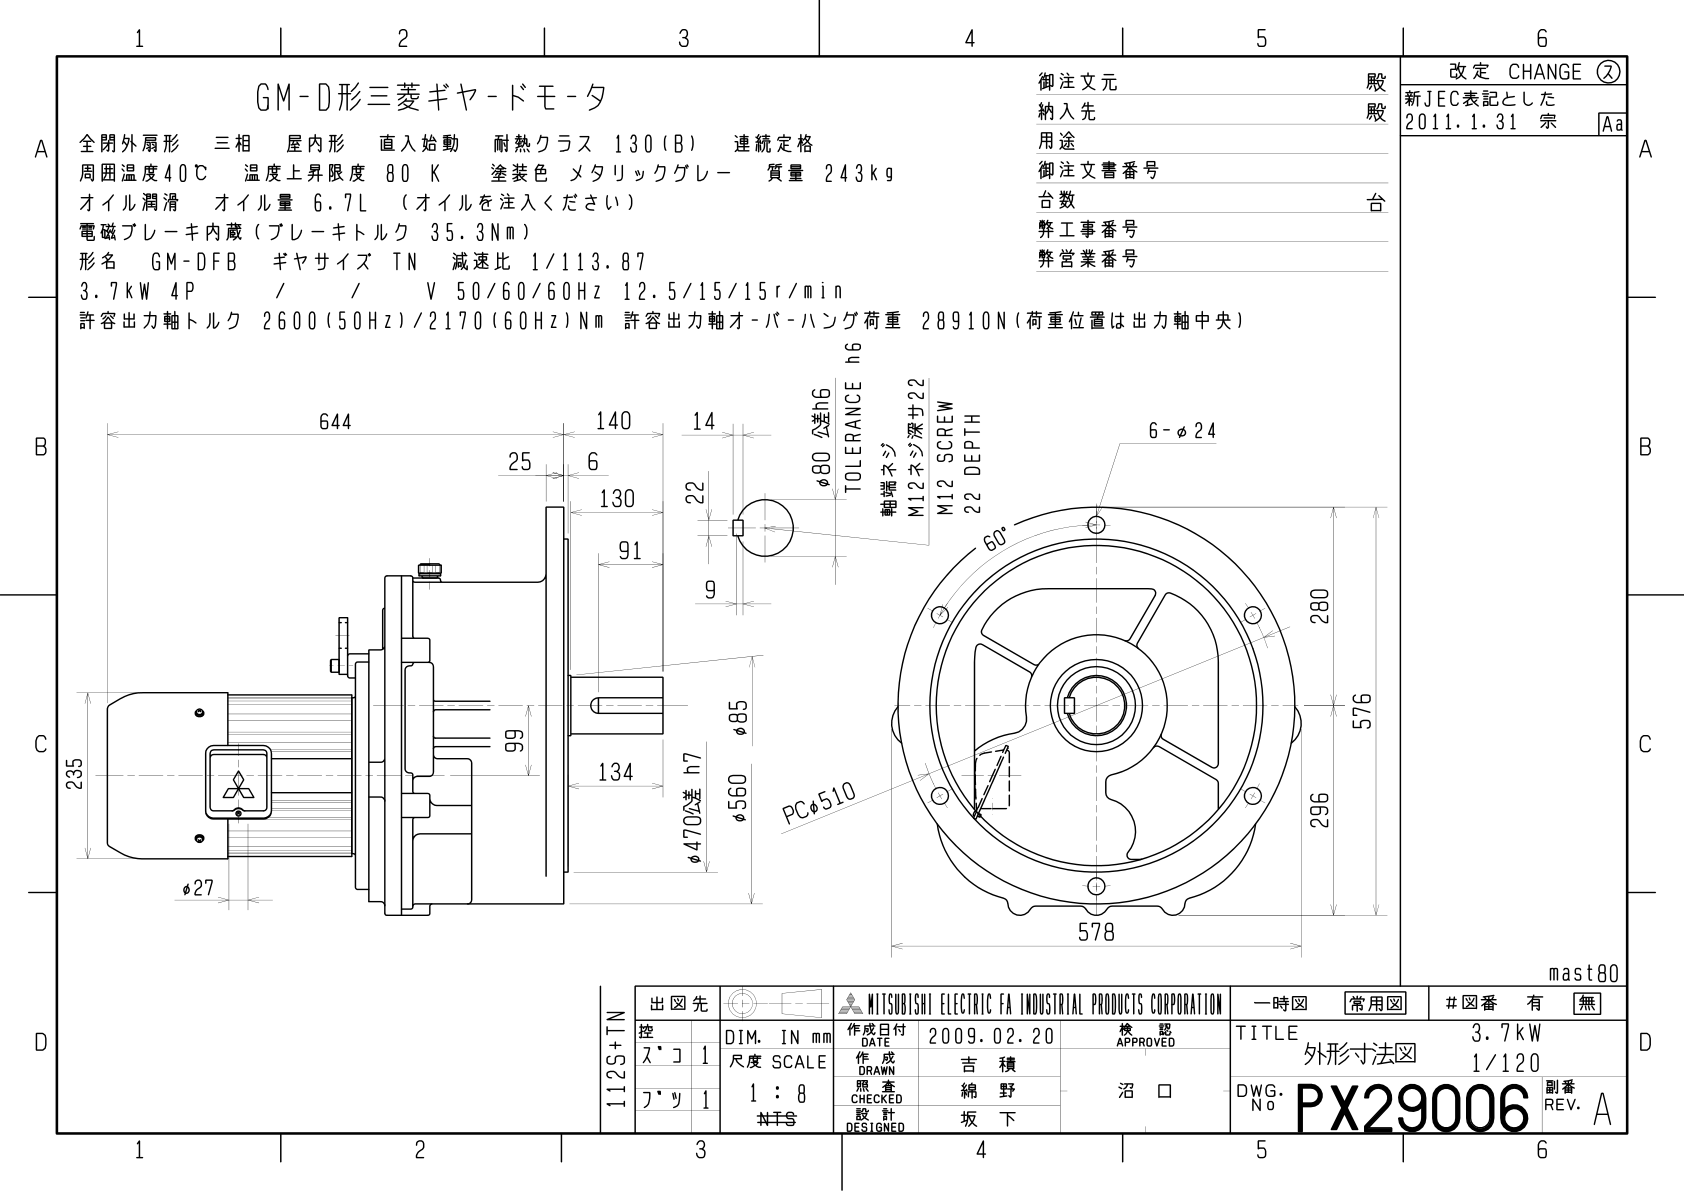GM_D_屋内＿三相_フランジ: (58, 335, 1397, 965)
